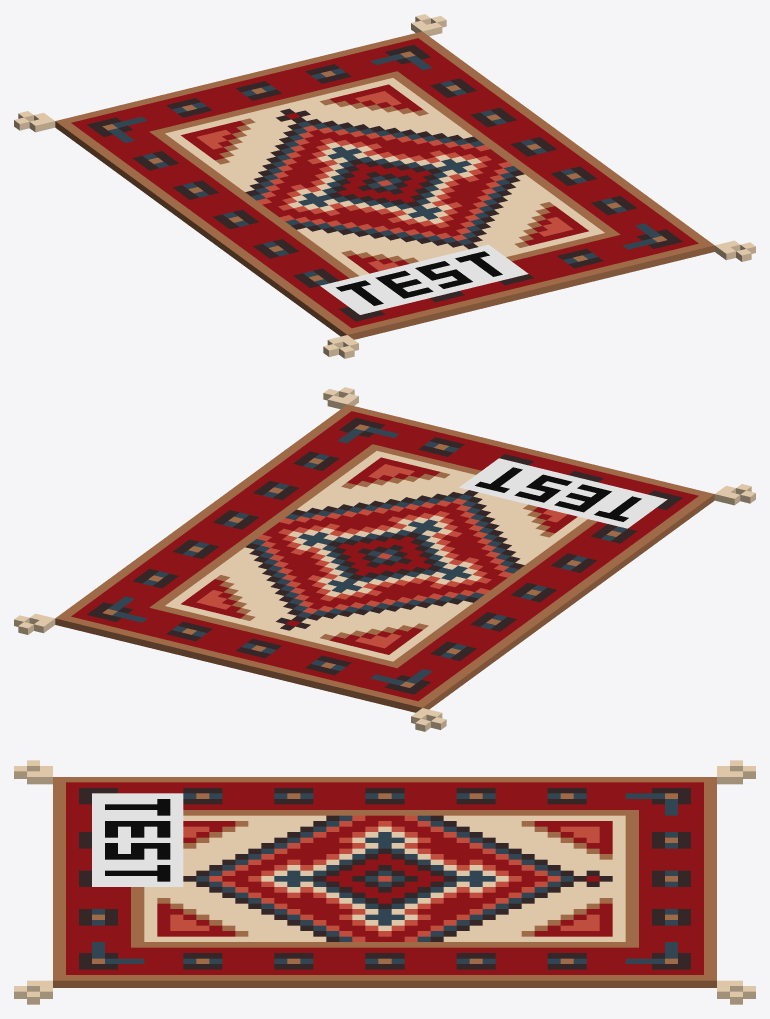
Rendered from pixelrugtest.glb.
The picture shows the model from 3 angles, top to bottom: view 1: azimuth 30°, elevation 25°; view 2: azimuth 150°, elevation 25°; view 3: azimuth 270°, elevation 25°; orthographic projection. The views are drawn at different scales.
Parts seen in each view (by area): view 1: Curve.729; view 2: Curve.729; view 3: Curve.729.
Boxes of the visible parts, x1,y1,x2,y2 form: Curve.729: (14, 14, 755, 358); Curve.729: (14, 387, 755, 731); Curve.729: (14, 760, 755, 1004).
Bounding box in the file's own units: 0.8393 × 0.0123 × 1.11.
